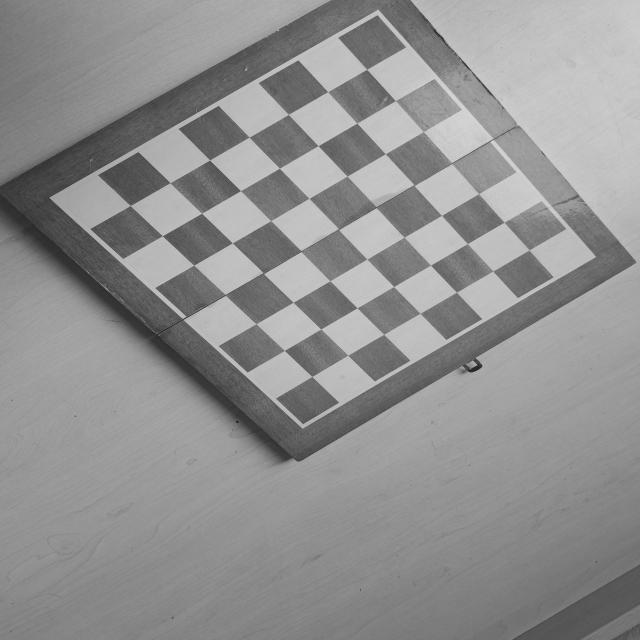chess-table-corners: (46, 191, 68, 207), (367, 8, 388, 24), (293, 416, 313, 432), (580, 249, 600, 263)
